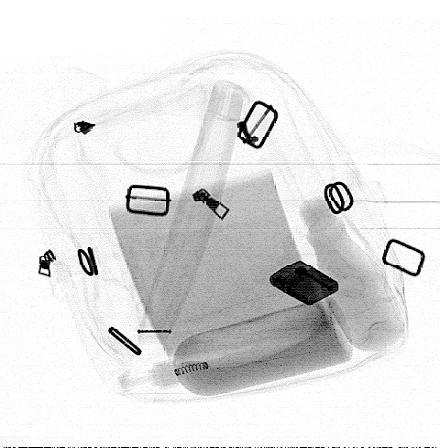Lighter: (268, 259, 339, 307)
